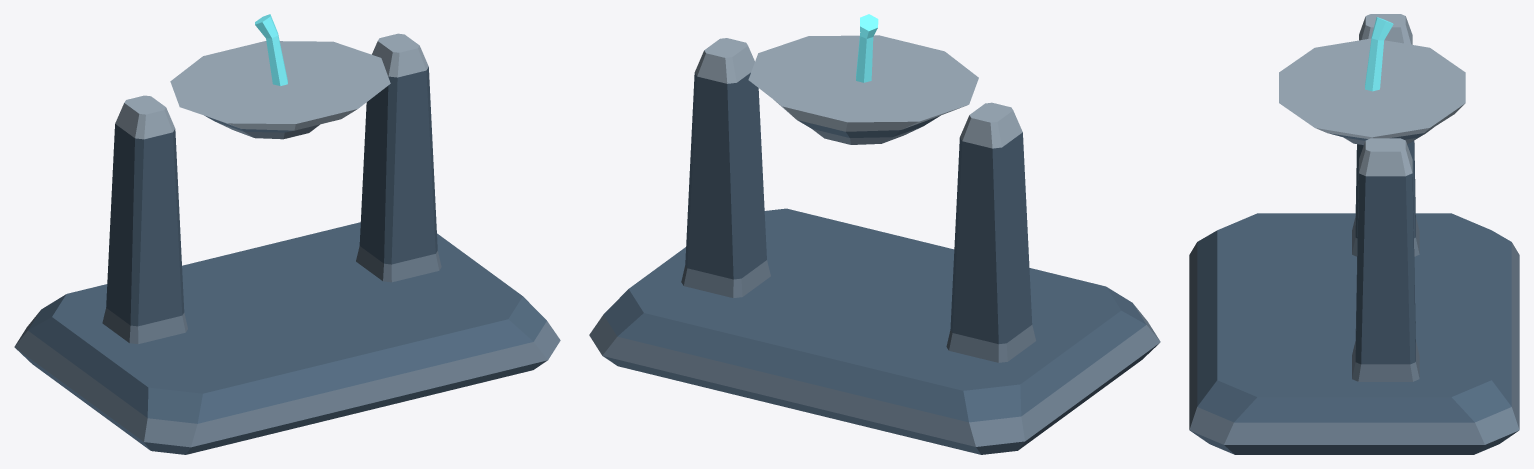
File: tracking-dish.glb
3 renders of one model, left to right at view 1: azimuth 30°, elevation 25°; view 2: azimuth 150°, elevation 25°; view 3: azimuth 270°, elevation 25°, orthographic. The views are drawn at different scales.
Parts seen in each view (by area): view 1: tracking-dish; view 2: tracking-dish; view 3: tracking-dish.
Part boxes in pixels (x1,y1,x2,y2): tracking-dish: (14,14,560,454); tracking-dish: (589,14,1160,454); tracking-dish: (1189,14,1519,454).
Size of the model in its own units: 4.34 by 3.35 by 2.96.
